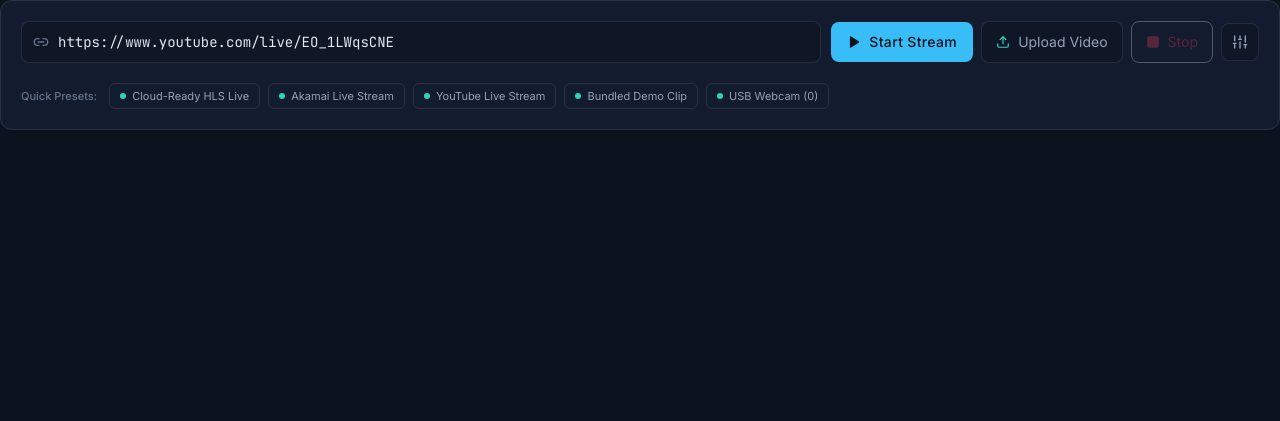
Test: ControlBar Component › toggles advanced tuning parameters drawer
The width and height of the screenshot is (1280, 421).
Expected: the field labelled "Inference Provider" is not shown
Click the button titled "Toggle advanced tuning parameters". click: (1240, 42)
box: [1221, 23, 1259, 61]
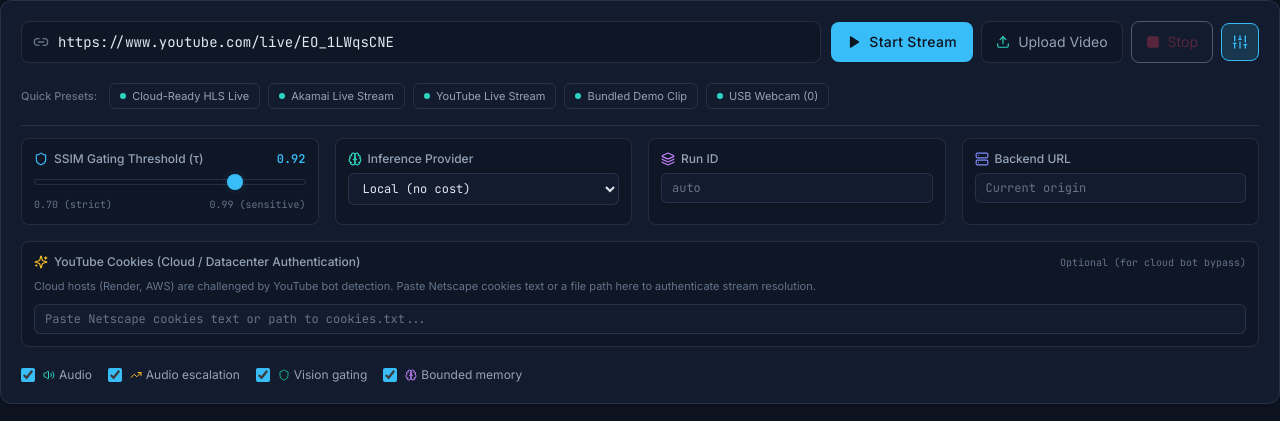
Now the text "Inference Provider" is shown, box [348, 151, 473, 166]
Now the text "SSIM Gating Threshold (τ)" is shown, box [34, 151, 203, 167]
Now the text "0.92" is shown, box [277, 151, 306, 167]
